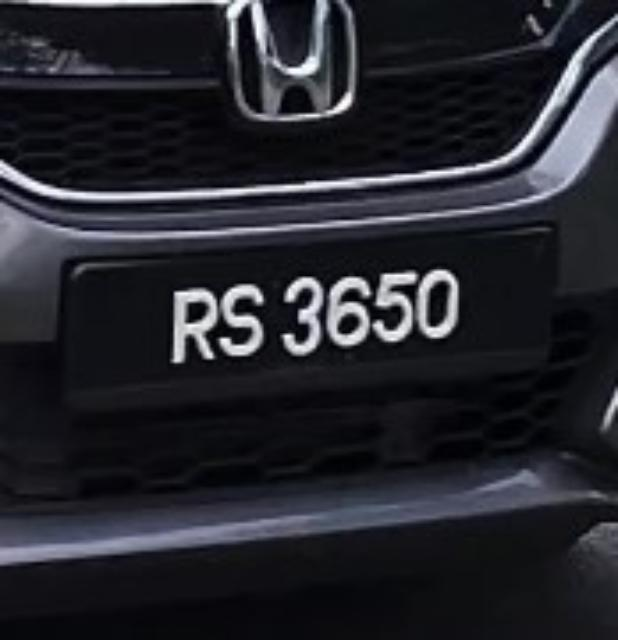License_Plate: (60, 222, 560, 394)
